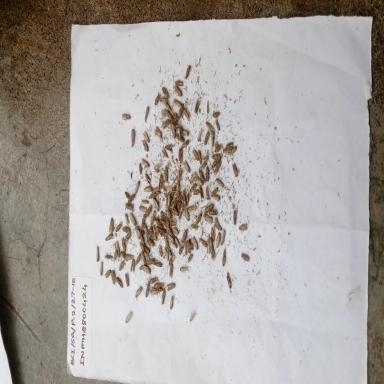pbw: (141, 127, 153, 145), (212, 113, 222, 134), (139, 262, 152, 278), (148, 208, 160, 225), (133, 282, 143, 302), (204, 118, 215, 136), (113, 236, 121, 260), (172, 83, 184, 99), (203, 212, 215, 228), (192, 172, 204, 188), (152, 158, 164, 174), (184, 201, 198, 214), (140, 155, 152, 170), (231, 159, 239, 181), (132, 250, 143, 266), (218, 227, 226, 249), (180, 137, 191, 152), (141, 138, 150, 156), (170, 189, 179, 207), (124, 211, 132, 231), (202, 184, 210, 204), (134, 222, 142, 242), (155, 124, 165, 140), (176, 192, 184, 212), (167, 204, 179, 217), (213, 140, 225, 153), (161, 85, 170, 102), (114, 217, 123, 234), (142, 104, 150, 123), (177, 102, 185, 121), (129, 127, 136, 148), (178, 202, 185, 223), (210, 192, 222, 204), (158, 94, 170, 106), (153, 89, 161, 107), (182, 106, 191, 122), (220, 248, 228, 266), (160, 104, 168, 122), (167, 250, 176, 266), (132, 178, 140, 196), (172, 97, 184, 109), (164, 280, 176, 292), (191, 236, 200, 252), (102, 268, 113, 281), (212, 107, 222, 121), (124, 202, 138, 212), (183, 160, 193, 174), (240, 252, 254, 262), (163, 242, 173, 256), (214, 160, 224, 174), (140, 212, 147, 232), (119, 248, 129, 262), (211, 156, 221, 170), (181, 226, 189, 243), (199, 234, 208, 249), (114, 273, 123, 288), (170, 121, 177, 140), (144, 255, 156, 266), (123, 269, 129, 291), (204, 202, 215, 214), (222, 146, 232, 159), (173, 78, 186, 88), (198, 159, 206, 175), (137, 162, 145, 178), (188, 170, 196, 186), (191, 146, 199, 162), (178, 240, 186, 256), (198, 184, 206, 200), (214, 216, 222, 232), (196, 149, 203, 167), (159, 210, 166, 228), (205, 233, 211, 254), (154, 216, 163, 230), (152, 195, 161, 209), (204, 128, 211, 146), (194, 96, 201, 114), (127, 191, 136, 205), (209, 224, 216, 242), (179, 263, 190, 274), (208, 207, 219, 218), (145, 203, 153, 218), (195, 211, 203, 226), (118, 257, 126, 272), (151, 180, 159, 195), (169, 184, 177, 199), (215, 176, 225, 188), (232, 205, 238, 225), (164, 108, 174, 120), (198, 169, 206, 184), (228, 144, 238, 156), (145, 279, 151, 299), (174, 133, 184, 145), (149, 286, 161, 296), (108, 216, 115, 233), (121, 237, 128, 254), (166, 230, 175, 243), (178, 146, 184, 165), (152, 224, 158, 243), (226, 271, 232, 290), (186, 186, 192, 205), (148, 225, 154, 244), (188, 310, 196, 324), (142, 223, 149, 239), (156, 224, 164, 238), (161, 145, 169, 159), (183, 207, 190, 223), (153, 279, 164, 289), (169, 290, 174, 312), (121, 112, 132, 122), (152, 257, 162, 268), (148, 189, 158, 200), (138, 203, 148, 214), (142, 195, 152, 206), (161, 117, 170, 129), (210, 152, 222, 161), (124, 252, 136, 261), (164, 142, 173, 154), (166, 218, 178, 227), (204, 164, 210, 182), (142, 243, 151, 255), (110, 268, 116, 286), (160, 288, 166, 306), (210, 243, 216, 261), (129, 256, 135, 274), (158, 243, 165, 258), (125, 311, 133, 324), (186, 249, 194, 262), (164, 99, 172, 112), (164, 245, 170, 262), (205, 98, 211, 115), (216, 232, 222, 249), (164, 164, 169, 184), (149, 275, 159, 285), (210, 130, 215, 150), (144, 172, 154, 182), (159, 171, 164, 191), (210, 185, 219, 196), (105, 232, 114, 243), (174, 235, 181, 249), (168, 262, 174, 278), (98, 260, 104, 276), (165, 216, 171, 232), (202, 153, 210, 165), (185, 64, 191, 80), (190, 181, 198, 193), (178, 166, 184, 181), (187, 237, 192, 255), (167, 192, 172, 210), (121, 225, 131, 234), (182, 189, 187, 207), (95, 244, 100, 262), (180, 127, 190, 136), (104, 252, 113, 262), (143, 184, 154, 192), (169, 122, 180, 130), (172, 225, 180, 236), (166, 208, 172, 222), (208, 236, 213, 252), (176, 180, 181, 196), (178, 123, 183, 139), (113, 248, 118, 264), (191, 223, 201, 231), (170, 239, 178, 249), (144, 249, 150, 262), (156, 286, 165, 294), (138, 239, 144, 251), (197, 126, 202, 140), (165, 191, 169, 207), (192, 188, 200, 196), (146, 238, 154, 246)
